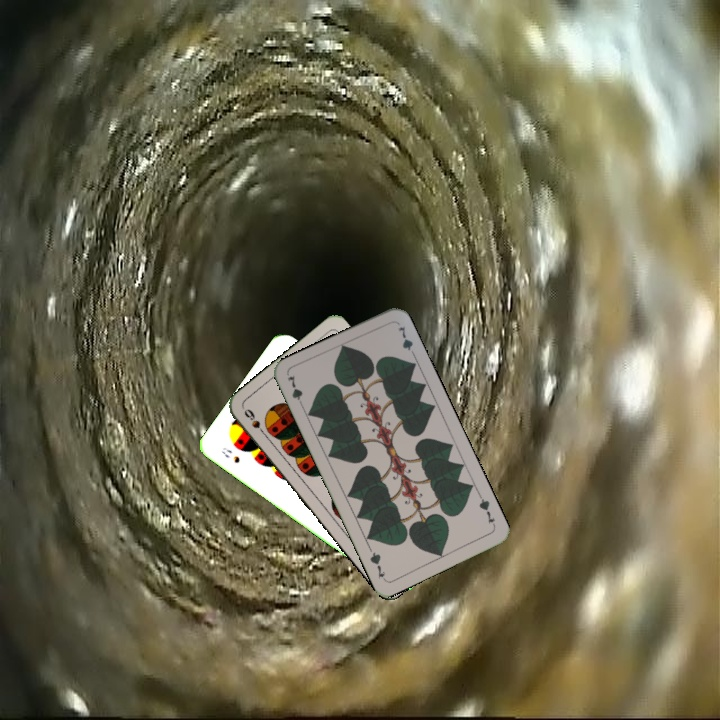G7: (283, 371, 306, 411), (475, 491, 498, 529)
S8: (217, 443, 242, 466)
S9: (240, 404, 270, 439)
